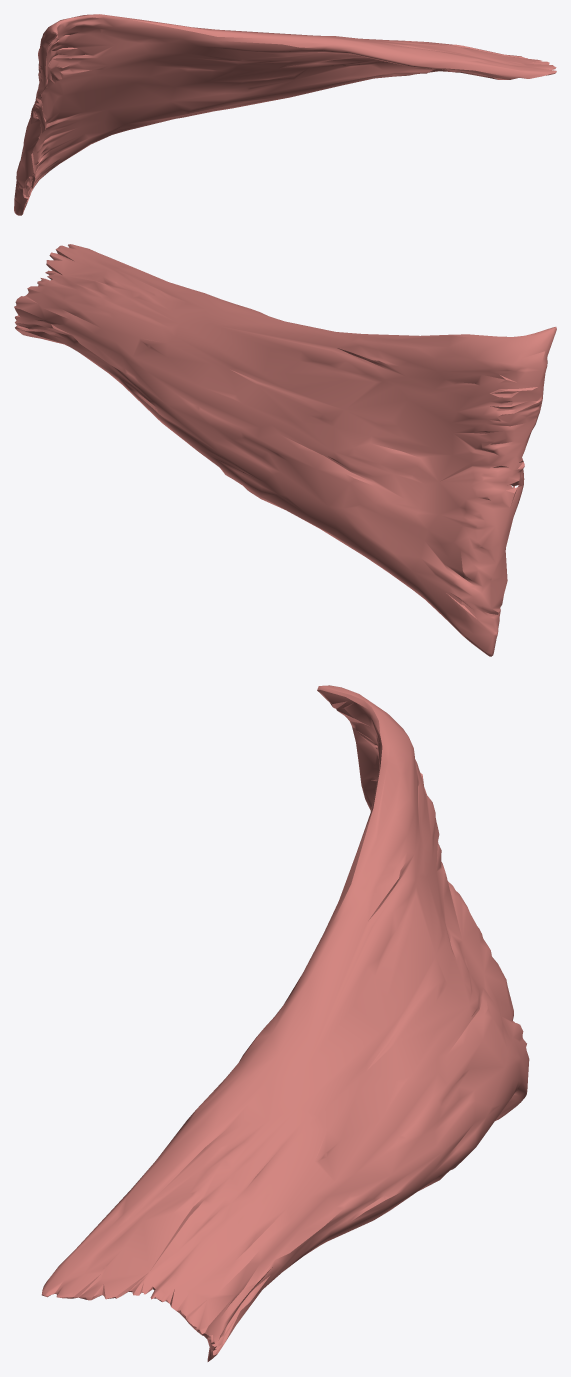
File: fma33585_fj1554m.glb
3 renders of one model, top to bottom at view 1: azimuth 30°, elevation 25°; view 2: azimuth 150°, elevation 25°; view 3: azimuth 270°, elevation 25°, orthographic. The views are drawn at different scales.
Visible parts, largest first — view 1: FMA33585_FJ1554M; view 2: FMA33585_FJ1554M; view 3: FMA33585_FJ1554M.
Boxes of the visible parts, x1=… form: FMA33585_FJ1554M: x1=14, y1=14, x2=556, y2=215; FMA33585_FJ1554M: x1=14, y1=244, x2=556, y2=656; FMA33585_FJ1554M: x1=41, y1=685, x2=529, y2=1361.
Bounding box in the file's own units: 0.1671 × 0.0785 × 0.0804.
